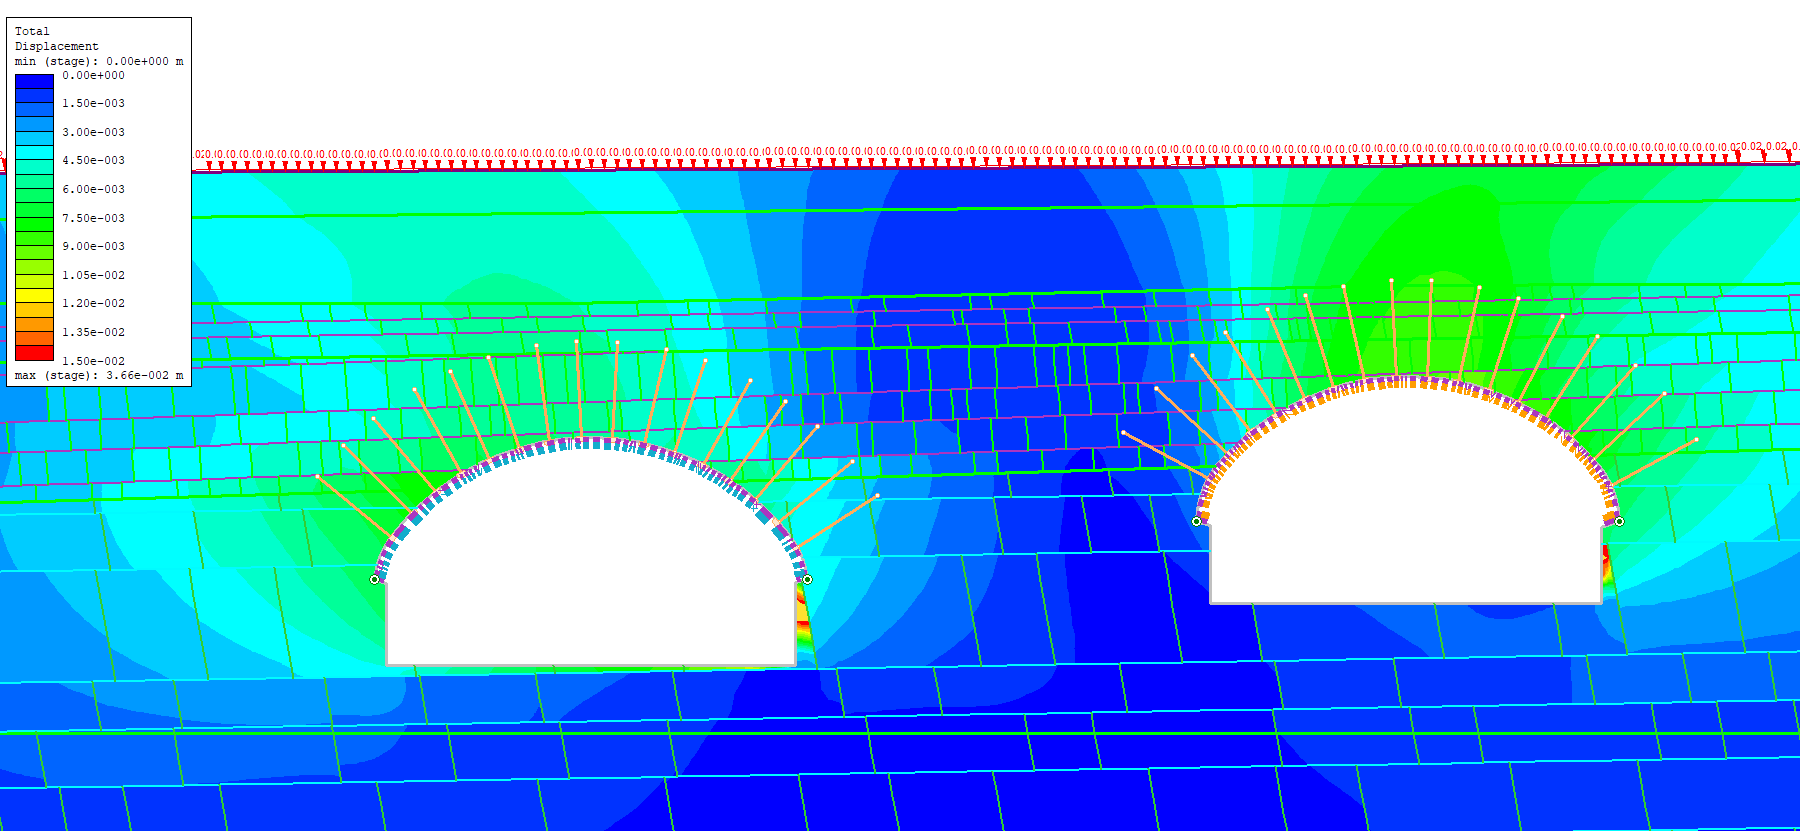crown: (1365, 350, 1471, 373), (544, 410, 636, 434)
label: (8, 16, 187, 387)
tunnel-opening: (379, 436, 807, 666), (1196, 376, 1617, 605)
